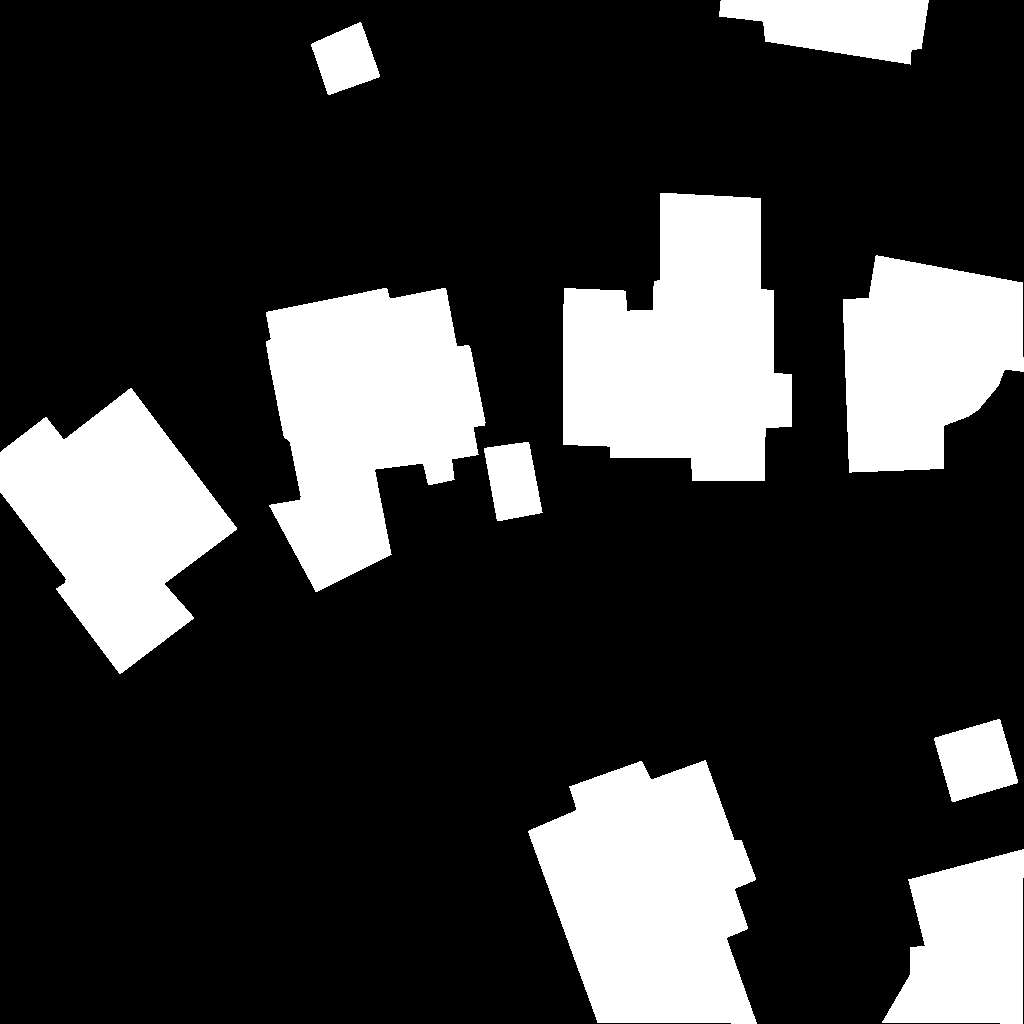building: (0, 388, 238, 675), (266, 288, 486, 593), (563, 193, 792, 481), (528, 760, 758, 1024), (843, 255, 1024, 473), (882, 849, 1024, 1024), (719, 0, 930, 65), (934, 719, 1019, 803), (311, 22, 381, 96), (484, 442, 543, 522)
